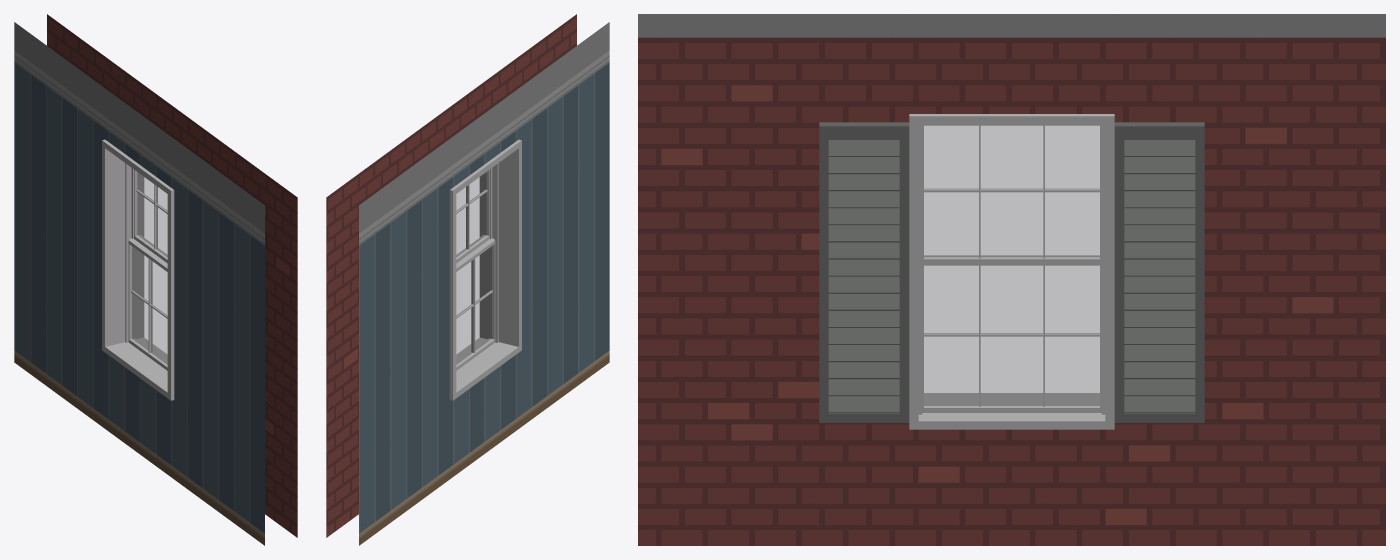
File: SM_window_01.glb
3 views of the same model, side by side, from view 1: azimuth 30°, elevation 25°; view 2: azimuth 150°, elevation 25°; view 3: azimuth 270°, elevation 25° (orthographic). The views are drawn at different scales.
Parts seen in each view (by area): view 1: SM_window_01; view 2: SM_window_01; view 3: SM_window_01.
Part boxes in pixels (x1,y1,x2,y2): SM_window_01: (14, 14, 297, 545); SM_window_01: (326, 14, 609, 545); SM_window_01: (638, 14, 1385, 545).
Size of the model in its own units: 0.403 by 3 by 4.
4 materials, 3 textured.
